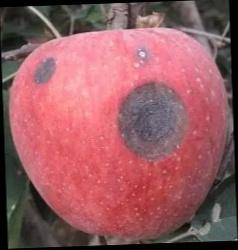rotten apple: (9, 32, 228, 240)
